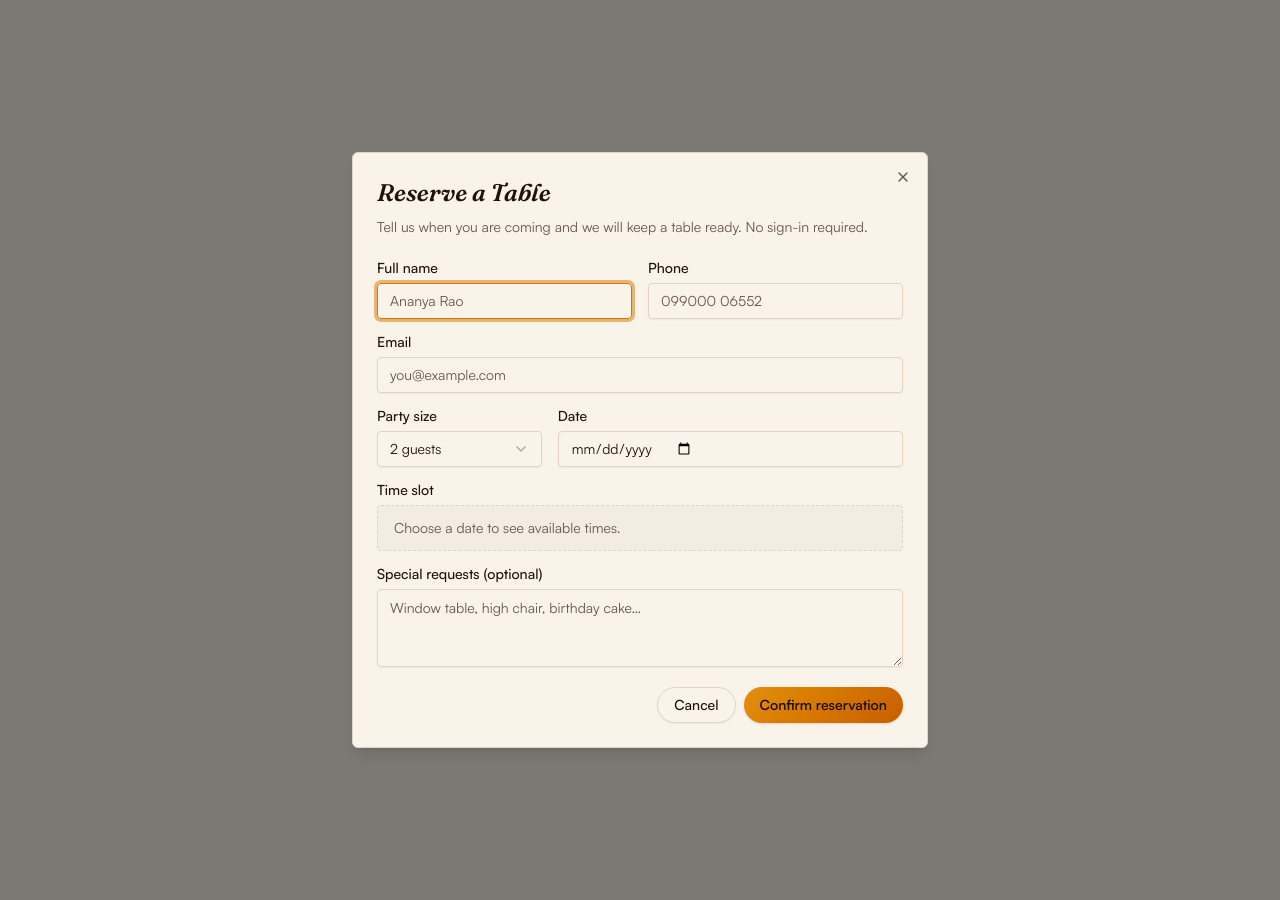
Test case: Reservation form validation › shows inline errors for missing required fields and does not submit
Click the button with test id "reservation.submit_button": (823, 705) [744,687,903,723]
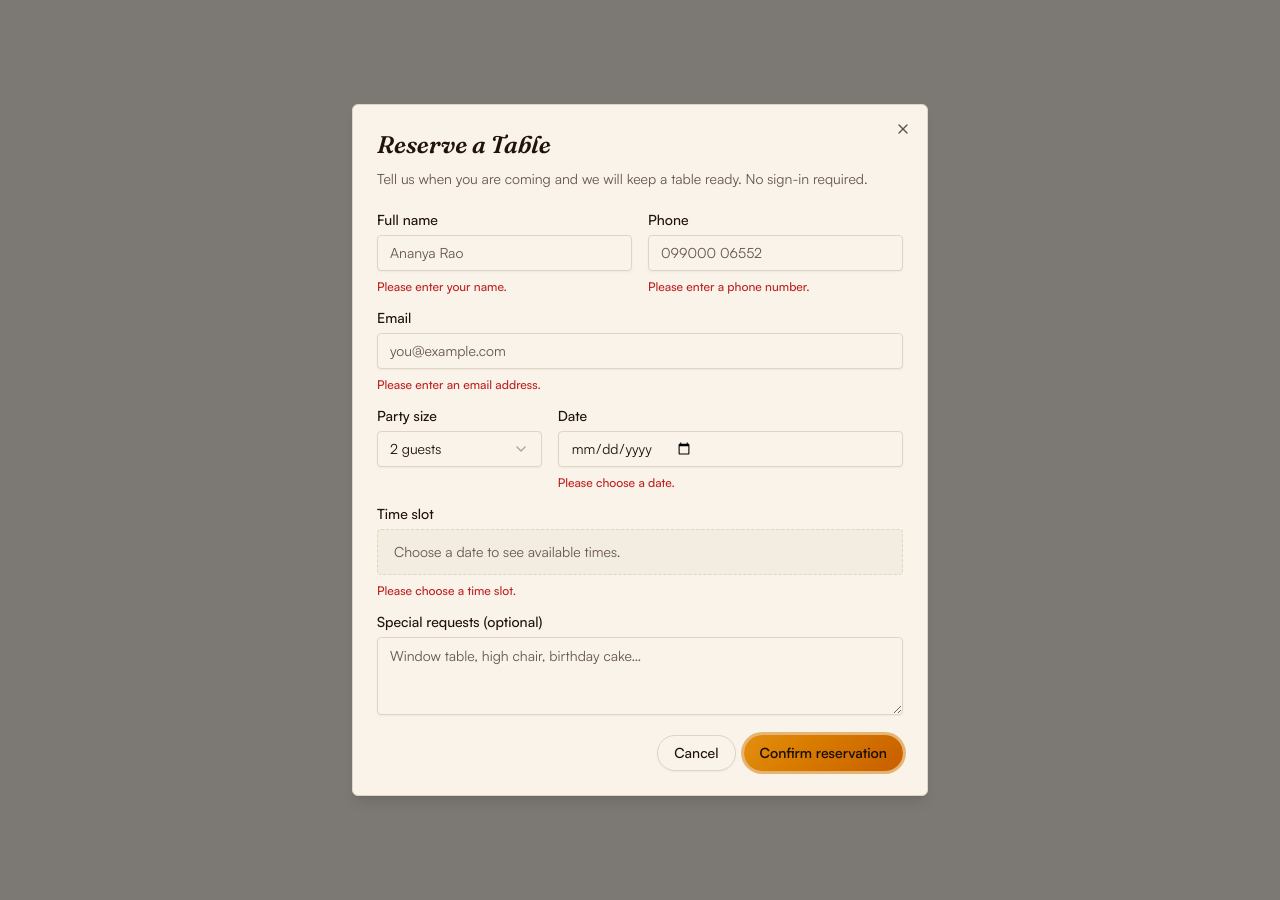
Now the text "Please enter your name." is shown, box [377,279,507,294]
Now the text "Please enter a phone number." is shown, box [648,279,810,294]
Now the text "Please enter an email address." is shown, box [377,377,541,392]
